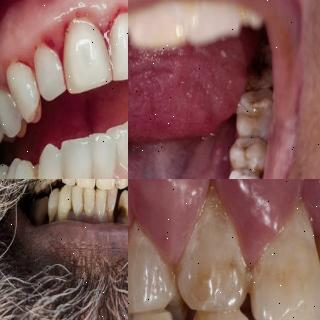Gum Swelling: (128, 179, 320, 268), (0, 0, 128, 67)
calculus: (66, 192, 76, 215), (104, 194, 112, 222), (80, 196, 89, 220), (92, 194, 98, 210)
cavities: (238, 45, 270, 85), (234, 159, 258, 179), (116, 204, 128, 222)
maligned: (170, 295, 250, 320), (91, 128, 117, 179), (110, 119, 128, 177), (1, 157, 19, 179)
plaque: (233, 250, 261, 301)
